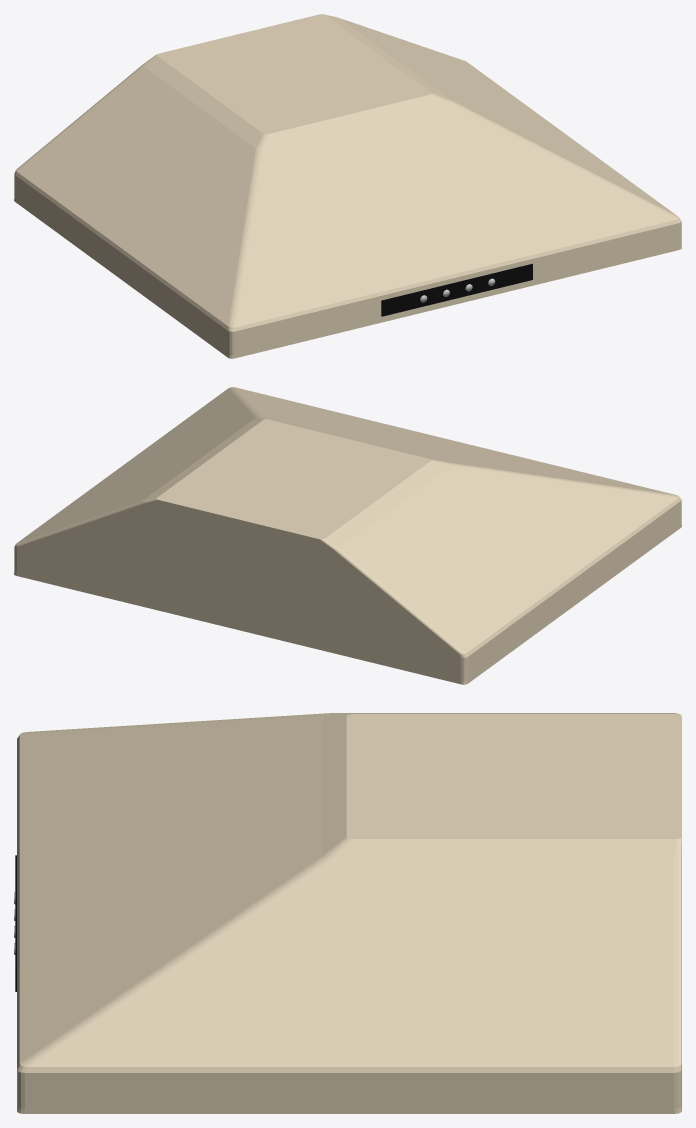
The model's file is a_hood_pyramid_3.glb.
3 views of the same model, one above another, from view 1: azimuth 30°, elevation 25°; view 2: azimuth 150°, elevation 25°; view 3: azimuth 270°, elevation 25° (orthographic). The views are drawn at different scales.
Visible parts, largest first — view 1: o, o.027; view 2: o; view 3: o.
Boxes of the visible parts, <box> form: o: <box>14,14,681,358</box>; o.027: <box>381,263,532,316</box>; o: <box>14,387,681,684</box>; o: <box>17,713,681,1113</box>.
Size of the model in its own units: 0.6 by 0.1422 by 0.5022.
